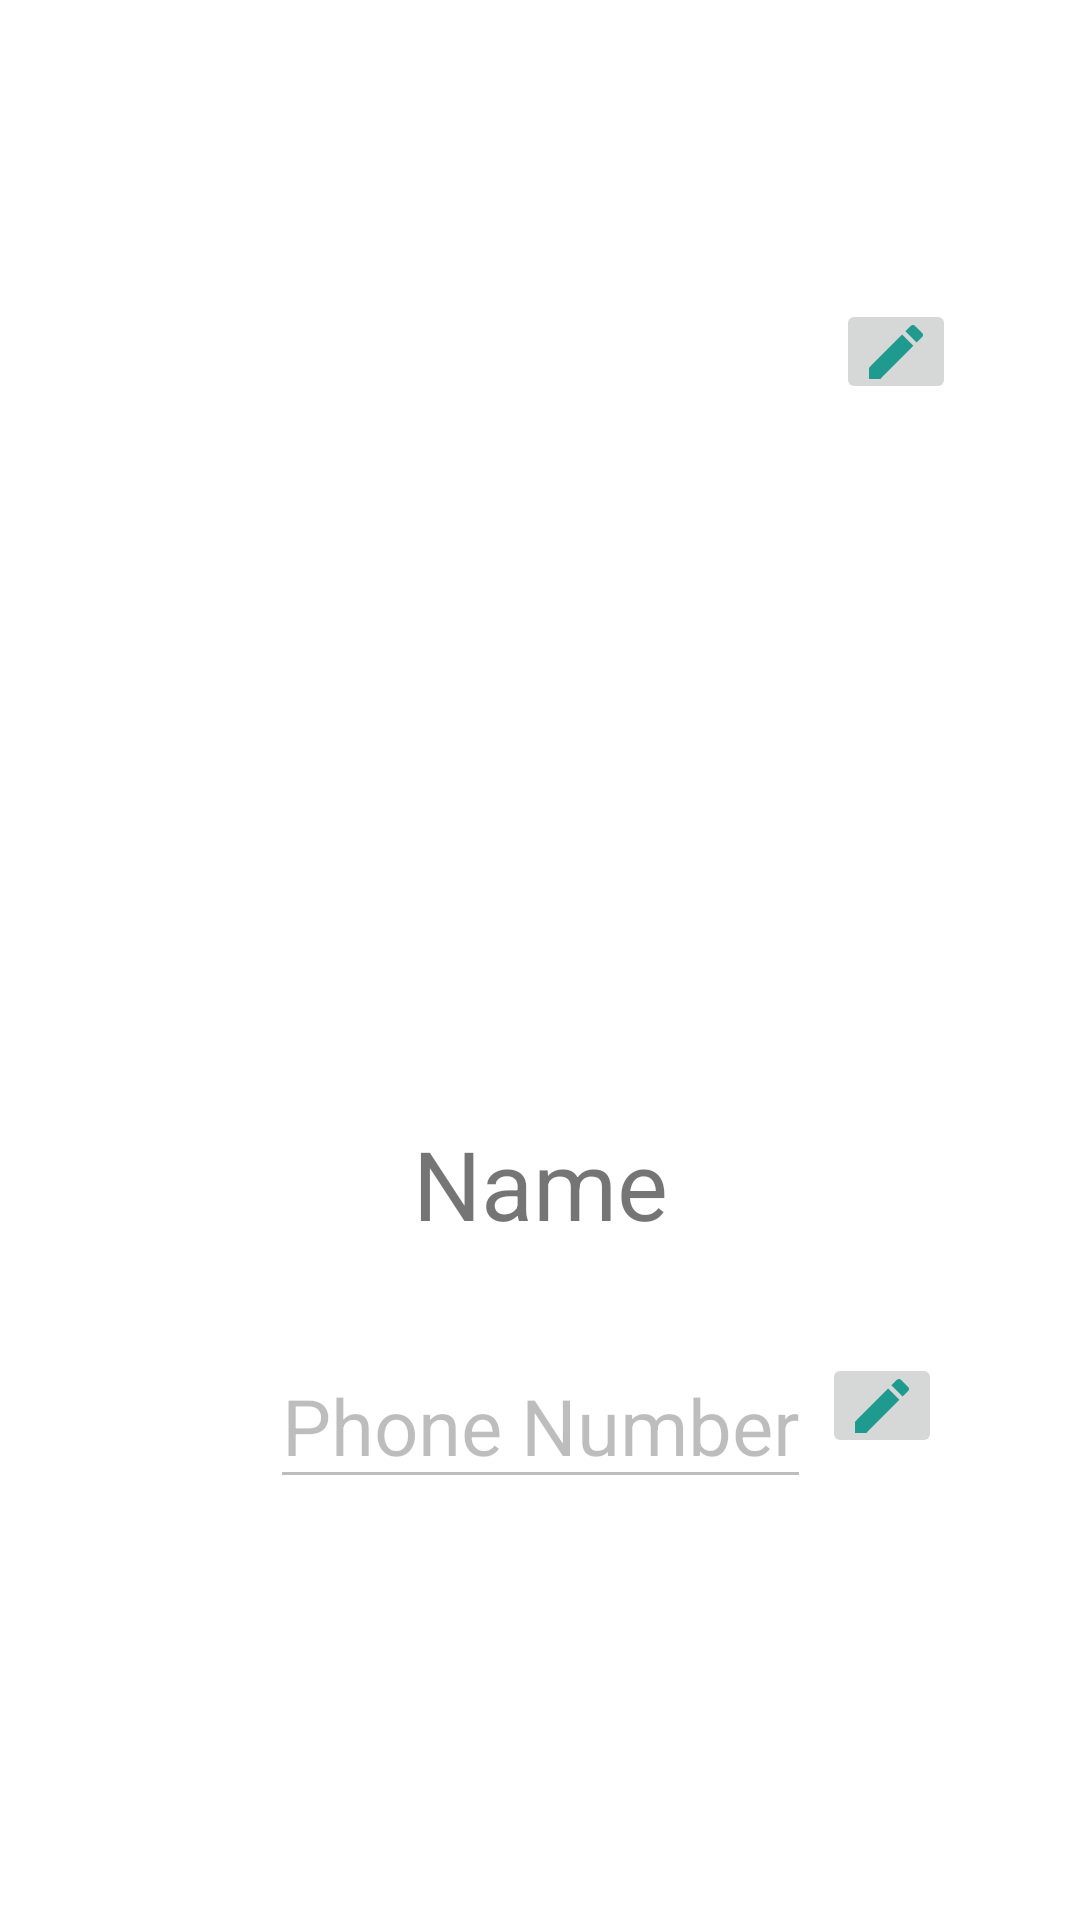

Screen size 1080*1920. Icon name, then its box in pixels as [left=x1, top=y1, right=x2, bottom=y2]:
edit: [left=848, top=317, right=944, bottom=386], [left=834, top=1371, right=930, bottom=1440]
